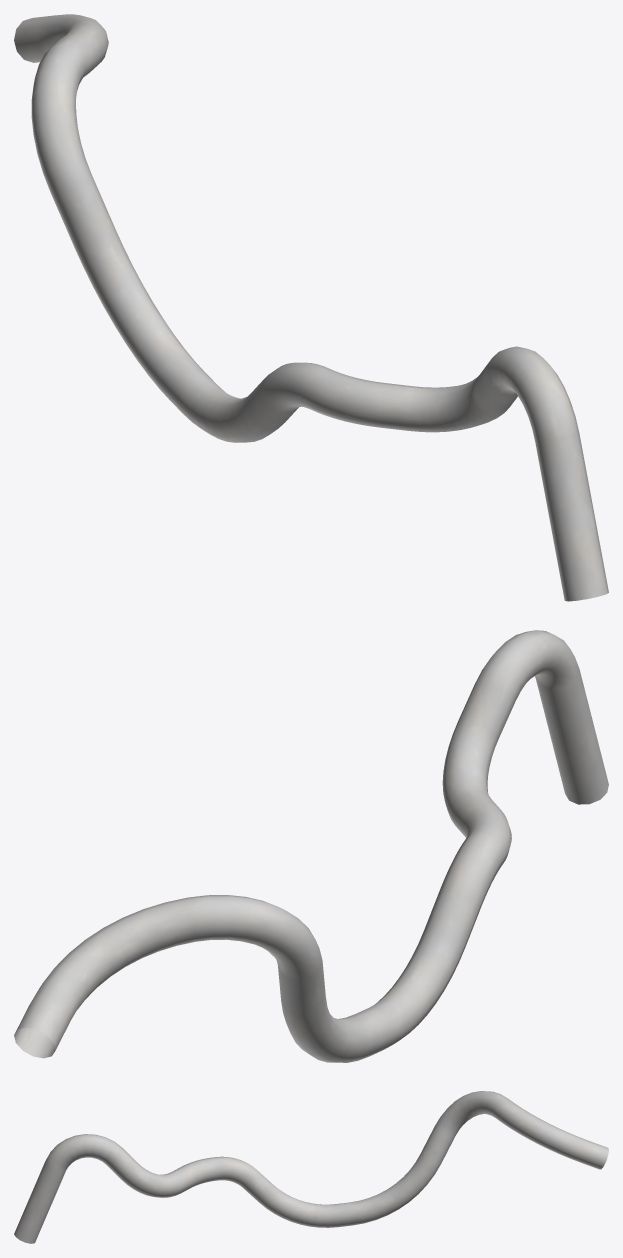
File: Pipe__21.fbx
3 renders of one model, top to bottom at view 1: azimuth 30°, elevation 25°; view 2: azimuth 150°, elevation 25°; view 3: azimuth 270°, elevation 25°, orthographic. The views are drawn at different scales.
Visible parts, largest first — view 1: Pipe_Red; view 2: Pipe_Red; view 3: Pipe_Red.
Part boxes in pixels (x1=…): Pipe_Red: x1=14, y1=14, x2=608, y2=601; Pipe_Red: x1=14, y1=630, x2=608, y2=1062; Pipe_Red: x1=14, y1=1091, x2=608, y2=1243.
Size of the model in its own units: 0.6702 by 1.02 by 4.04.
1 material, 1 textured.
